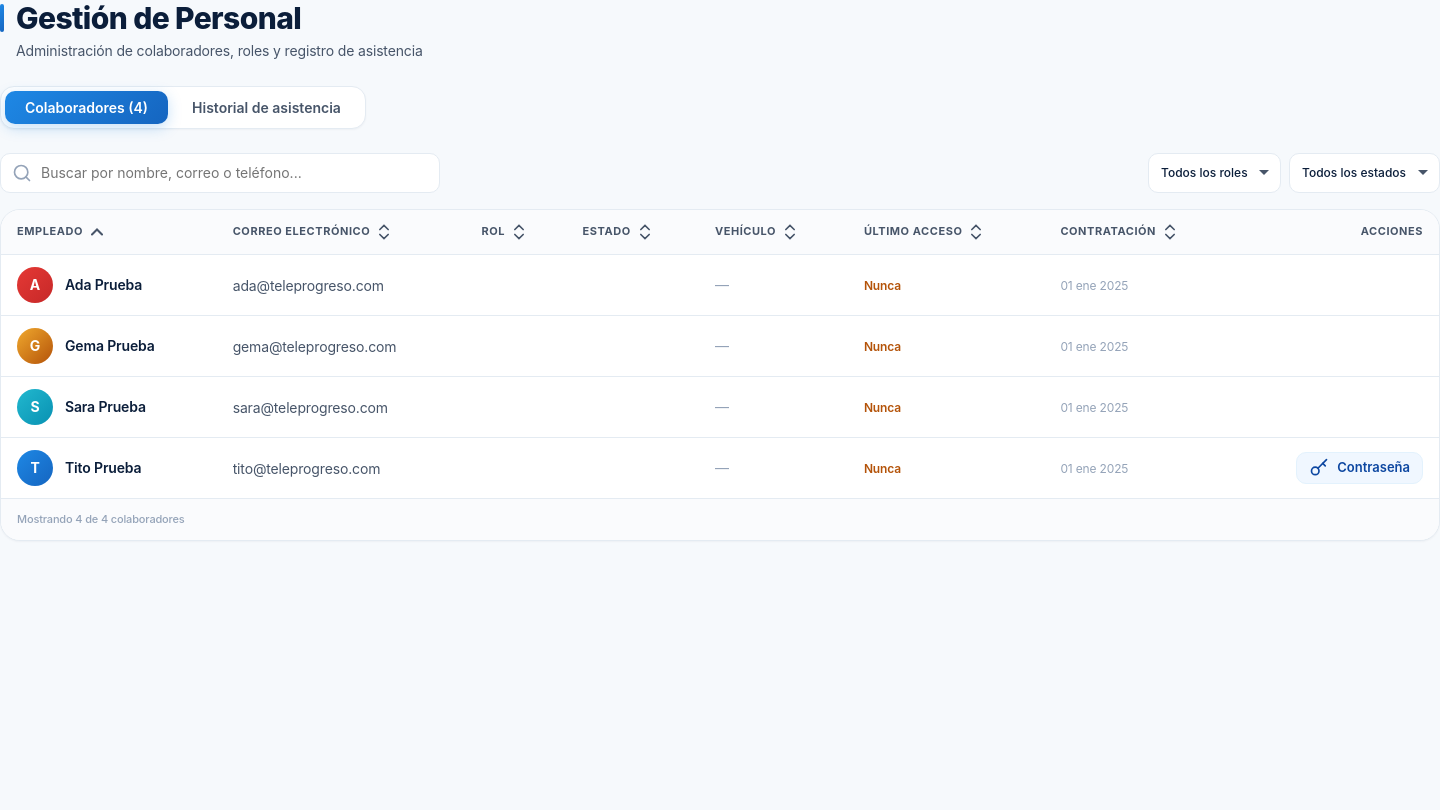
Scenario: TablaEmpleados: botón «Contraseña» › si el backend responde 403 igual, enseña su detail en un toast
Click the button with aria-label "Restablecer contraseña de Tito Prueba": (1360, 468) [1296,452,1423,484]
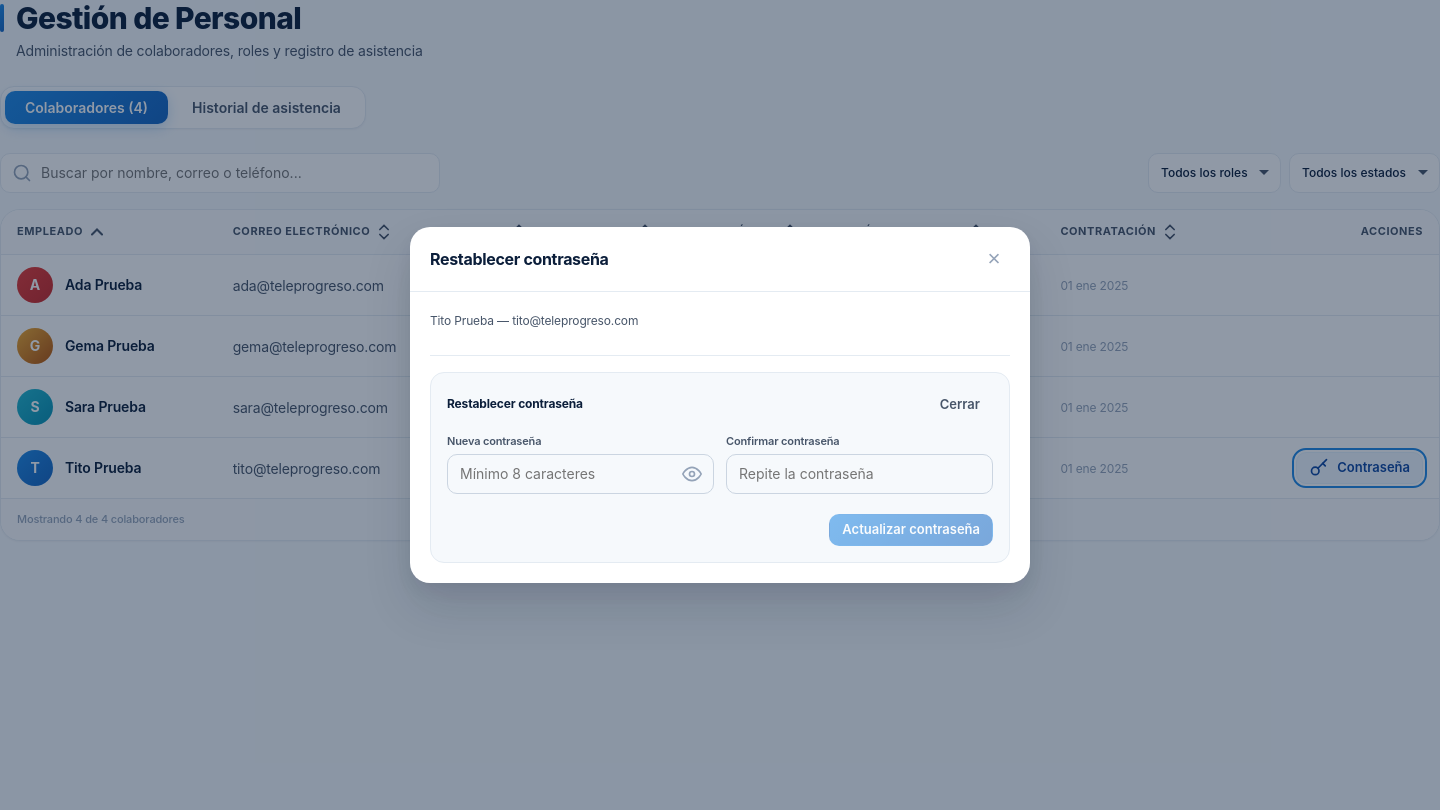
In the password field labelled "Nueva contraseña": (580, 474) [447,454,714,494], type "ClaveNueva1"
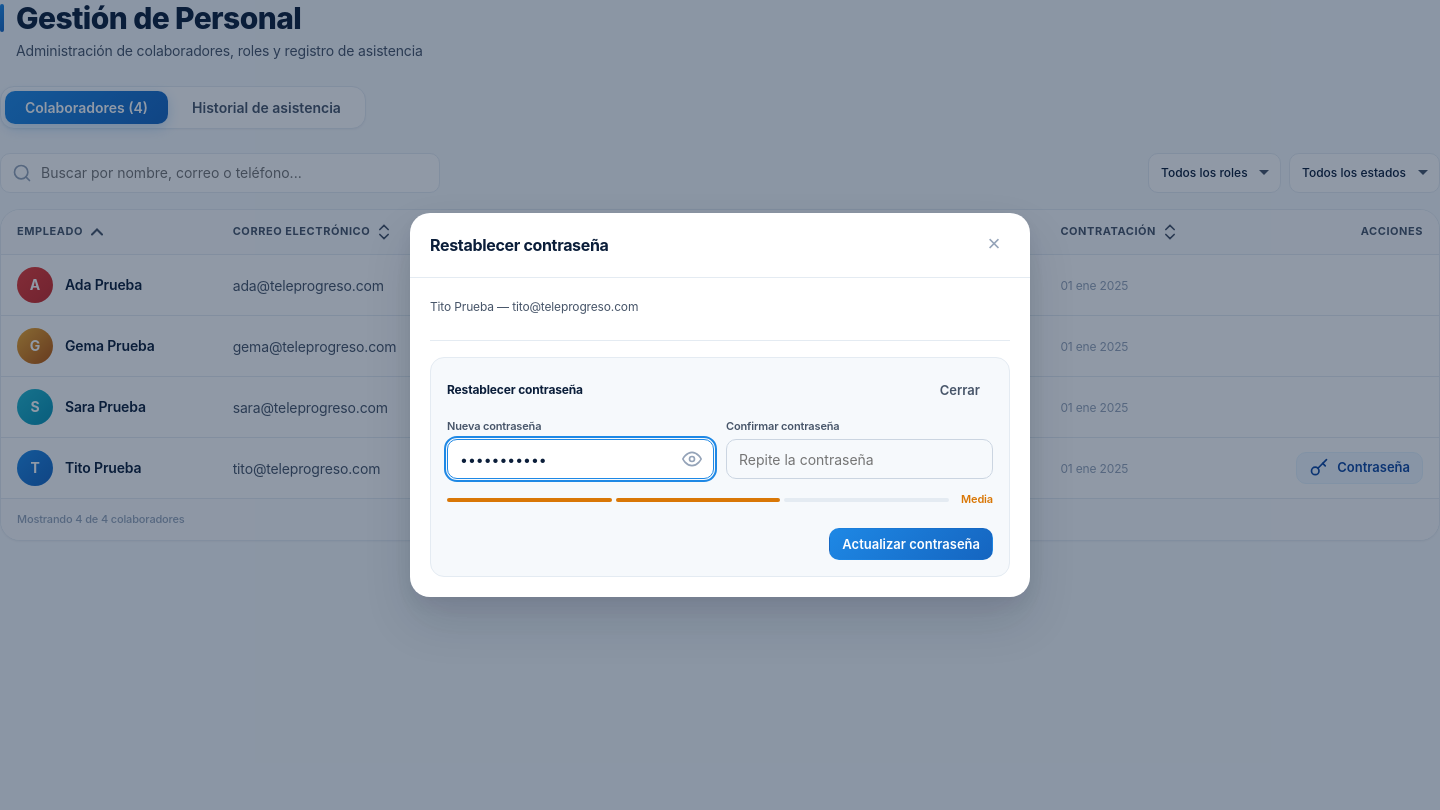
In the password field labelled "Confirmar contraseña": (860, 459) [726,439,993,479], type "ClaveNueva1"
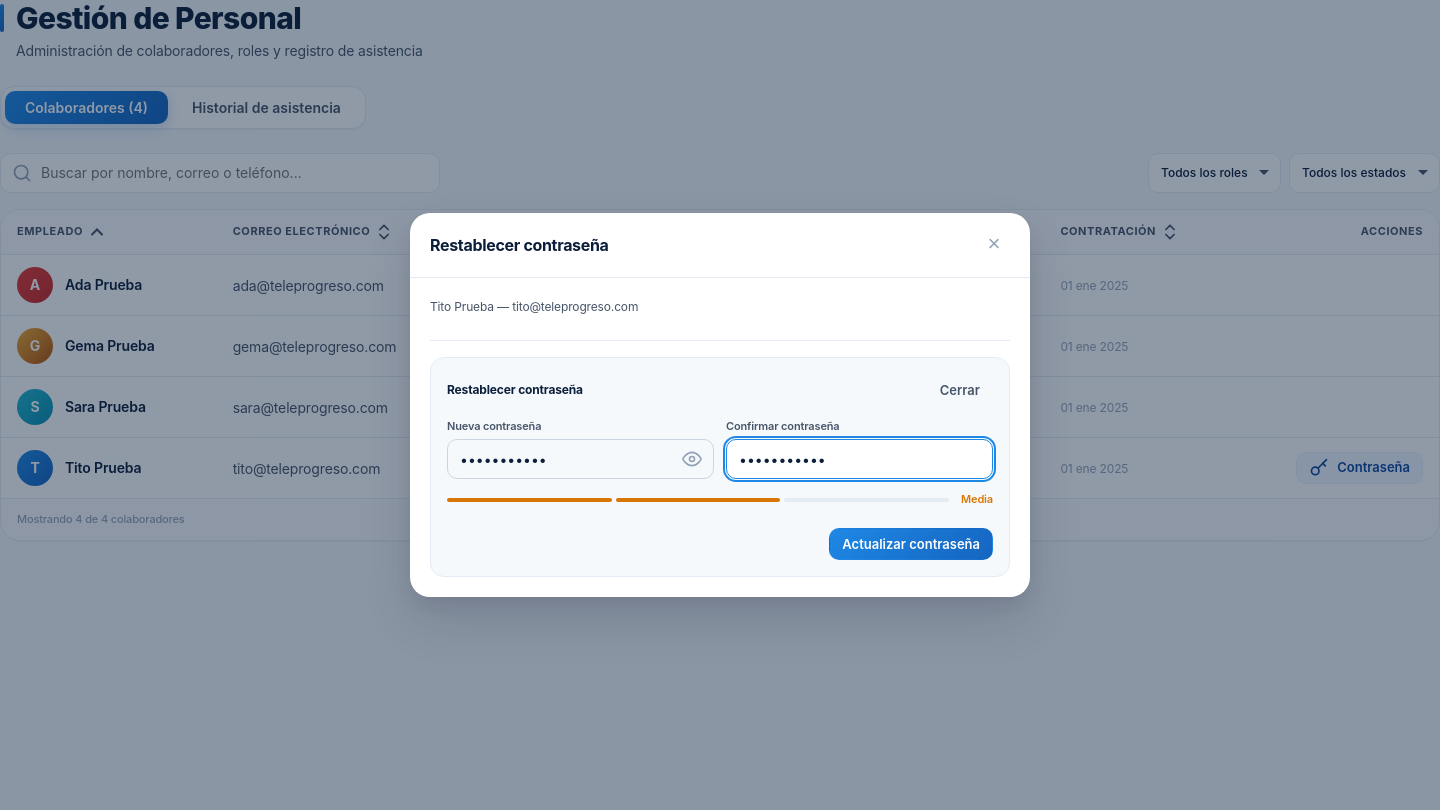
Click the button "Actualizar contraseña": (911, 544) [829,528,993,560]
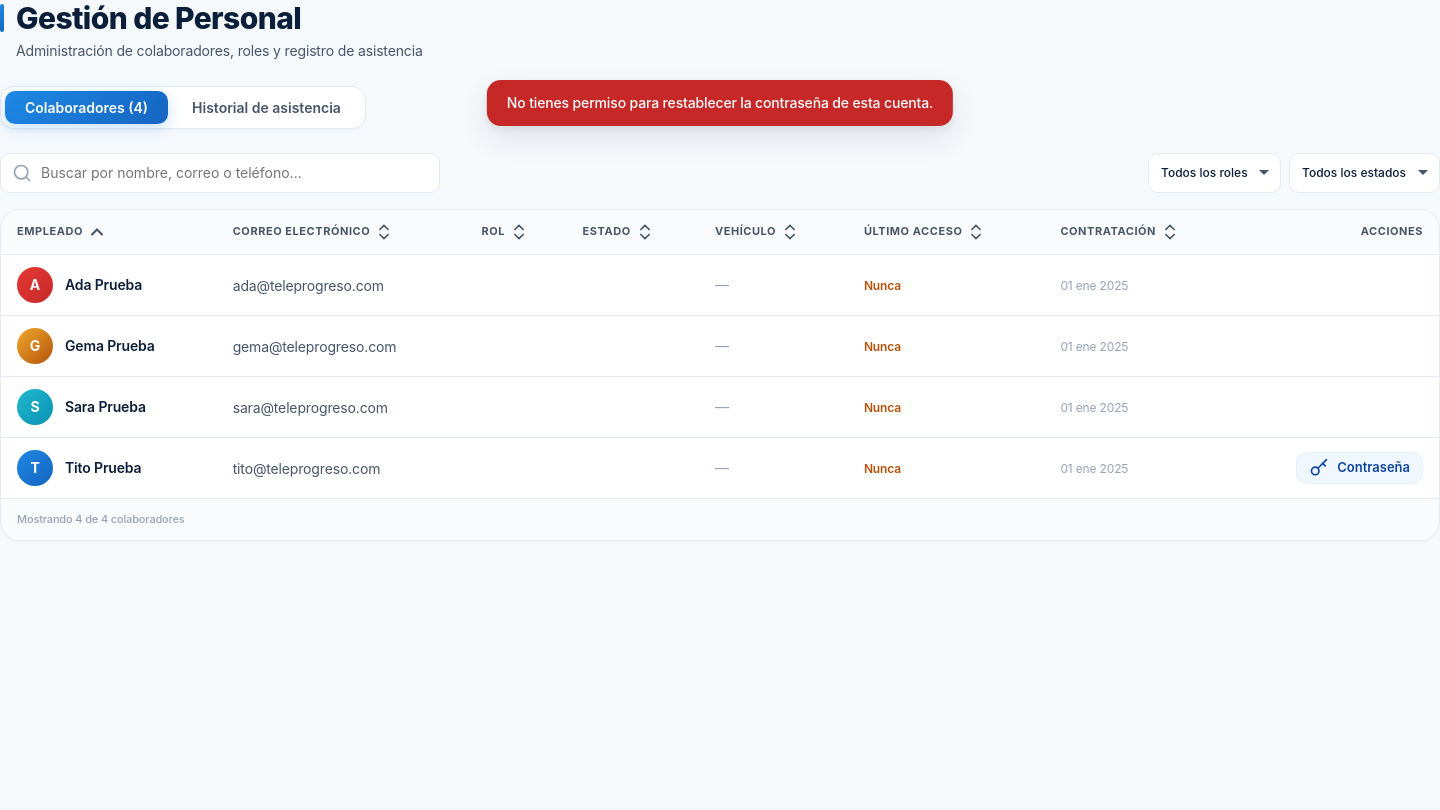
Check: the text "No tienes permiso para restablecer la contraseña de esta cuenta." is shown, box [487,80,953,126]
Check: the dialog is gone
